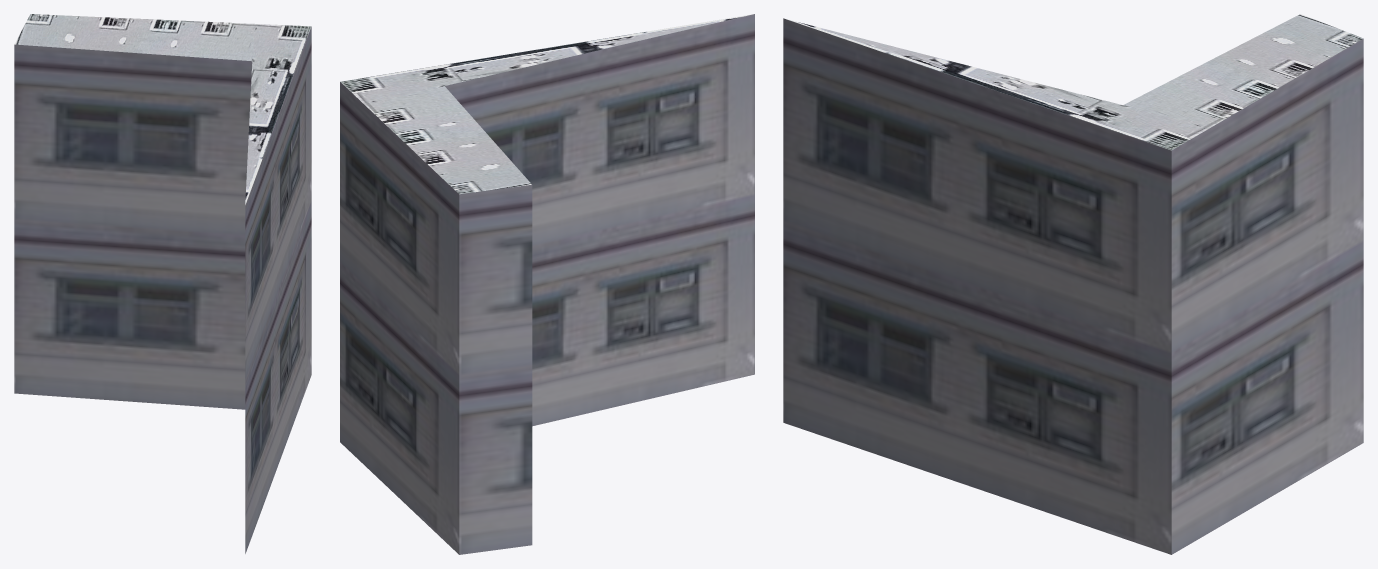
File: ResTex__4421.fbx
3 renders of one model, left to right at view 1: azimuth 30°, elevation 25°; view 2: azimuth 150°, elevation 25°; view 3: azimuth 270°, elevation 25°, orthographic. The views are drawn at different scales.
Parts seen in each view (by area): view 1: CityEngineMaterial_1_m, CityEngineMaterial_4_m; view 2: CityEngineMaterial_1_m, CityEngineMaterial_4_m; view 3: CityEngineMaterial_1_m, CityEngineMaterial_4_m.
Part boxes in pixels (x1=…): CityEngineMaterial_1_m: x1=14, y1=26, x2=311, y2=553; CityEngineMaterial_4_m: x1=14, y1=14, x2=311, y2=204; CityEngineMaterial_1_m: x1=340, y1=14, x2=754, y2=554; CityEngineMaterial_4_m: x1=340, y1=14, x2=752, y2=194; CityEngineMaterial_1_m: x1=783, y1=18, x2=1363, y2=554; CityEngineMaterial_4_m: x1=786, y1=14, x2=1363, y2=150.
Size of the model in its own units: 4.34 by 6 by 7.8.
Materials: 2 (2 with a texture image).
